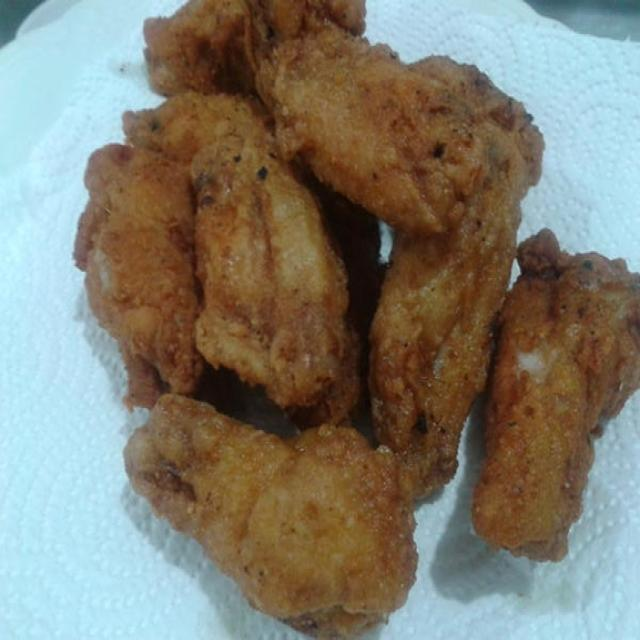鸡肉料理 含炸鸡: (41, 31, 613, 594)
